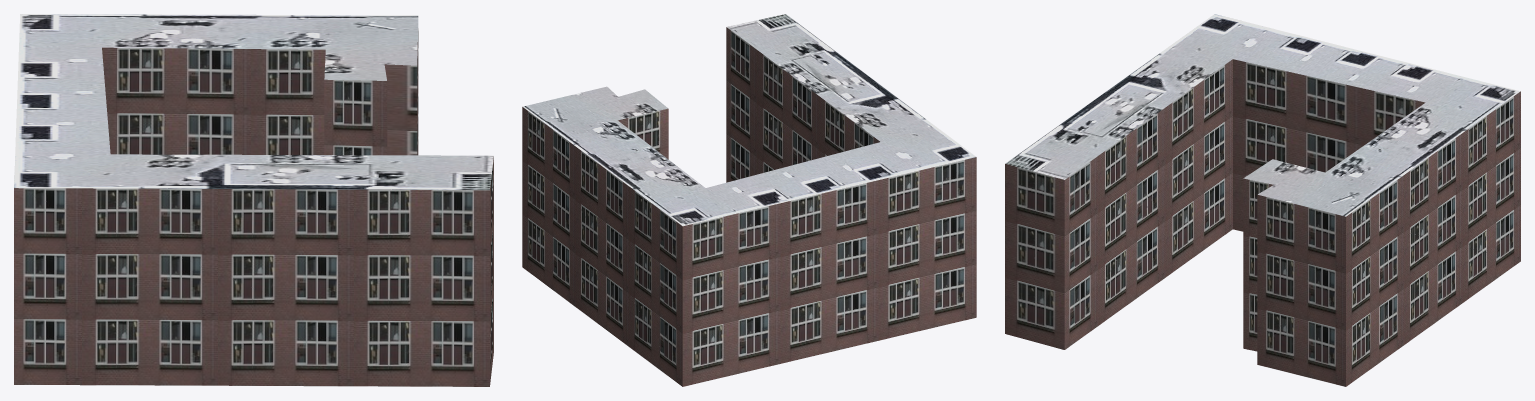
Rendered from ResTex__2312.fbx.
The picture shows the model from 3 angles, left to right: view 1: azimuth 30°, elevation 25°; view 2: azimuth 150°, elevation 25°; view 3: azimuth 270°, elevation 25°; orthographic projection. The views are drawn at different scales.
Visible parts, largest first — view 1: CityEngineMaterial_12_m, CityEngineMaterial_2_m; view 2: CityEngineMaterial_12_m, CityEngineMaterial_2_m; view 3: CityEngineMaterial_12_m, CityEngineMaterial_2_m.
Boxes of the visible parts, left/top/right/bottom form: CityEngineMaterial_12_m: left=14, top=28, right=493, bottom=386; CityEngineMaterial_2_m: left=14, top=14, right=493, bottom=190; CityEngineMaterial_12_m: left=522, top=27, right=976, bottom=386; CityEngineMaterial_2_m: left=523, top=14, right=975, bottom=226; CityEngineMaterial_12_m: left=1005, top=59, right=1520, bottom=386; CityEngineMaterial_2_m: left=1005, top=14, right=1520, bottom=216.
Size of the model in its own units: 23 by 9 by 24.72.
Materials: 2 (2 with a texture image).
